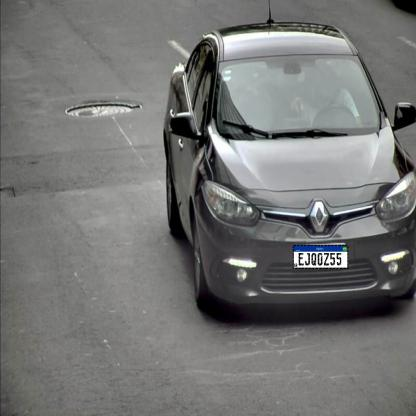PlacaM: (293, 245, 348, 269)
